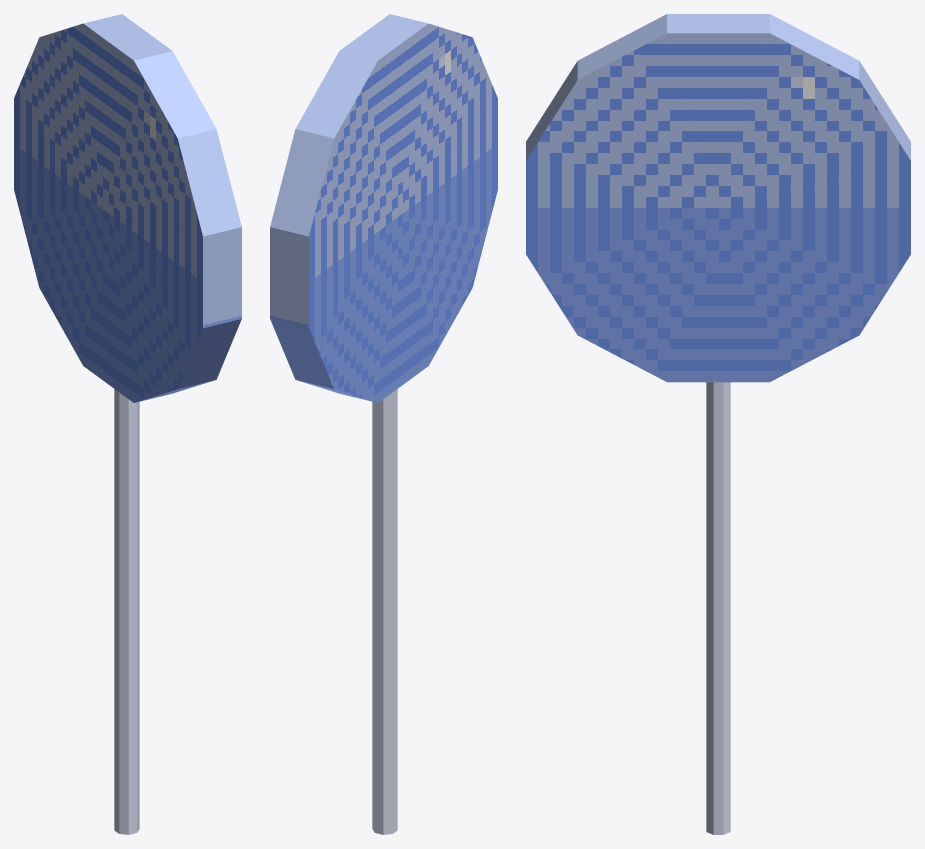
The model's file is Swirly Lolipop Trees (Blue).gltf.
3 views of the same model, side by side, from view 1: azimuth 30°, elevation 25°; view 2: azimuth 150°, elevation 25°; view 3: azimuth 270°, elevation 25° (orthographic).
Visible parts, largest first — view 1: cylinder (×2); view 2: cylinder (×2); view 3: cylinder (×2).
Boxes of the visible parts, <box> form: cylinder (×2): <box>14,14,241,834</box>; cylinder (×2): <box>270,14,497,834</box>; cylinder (×2): <box>526,14,910,834</box>.
Size of the model in its own units: 0.1187 by 2.31 by 1.
Materials: 2 (2 with a texture image).
